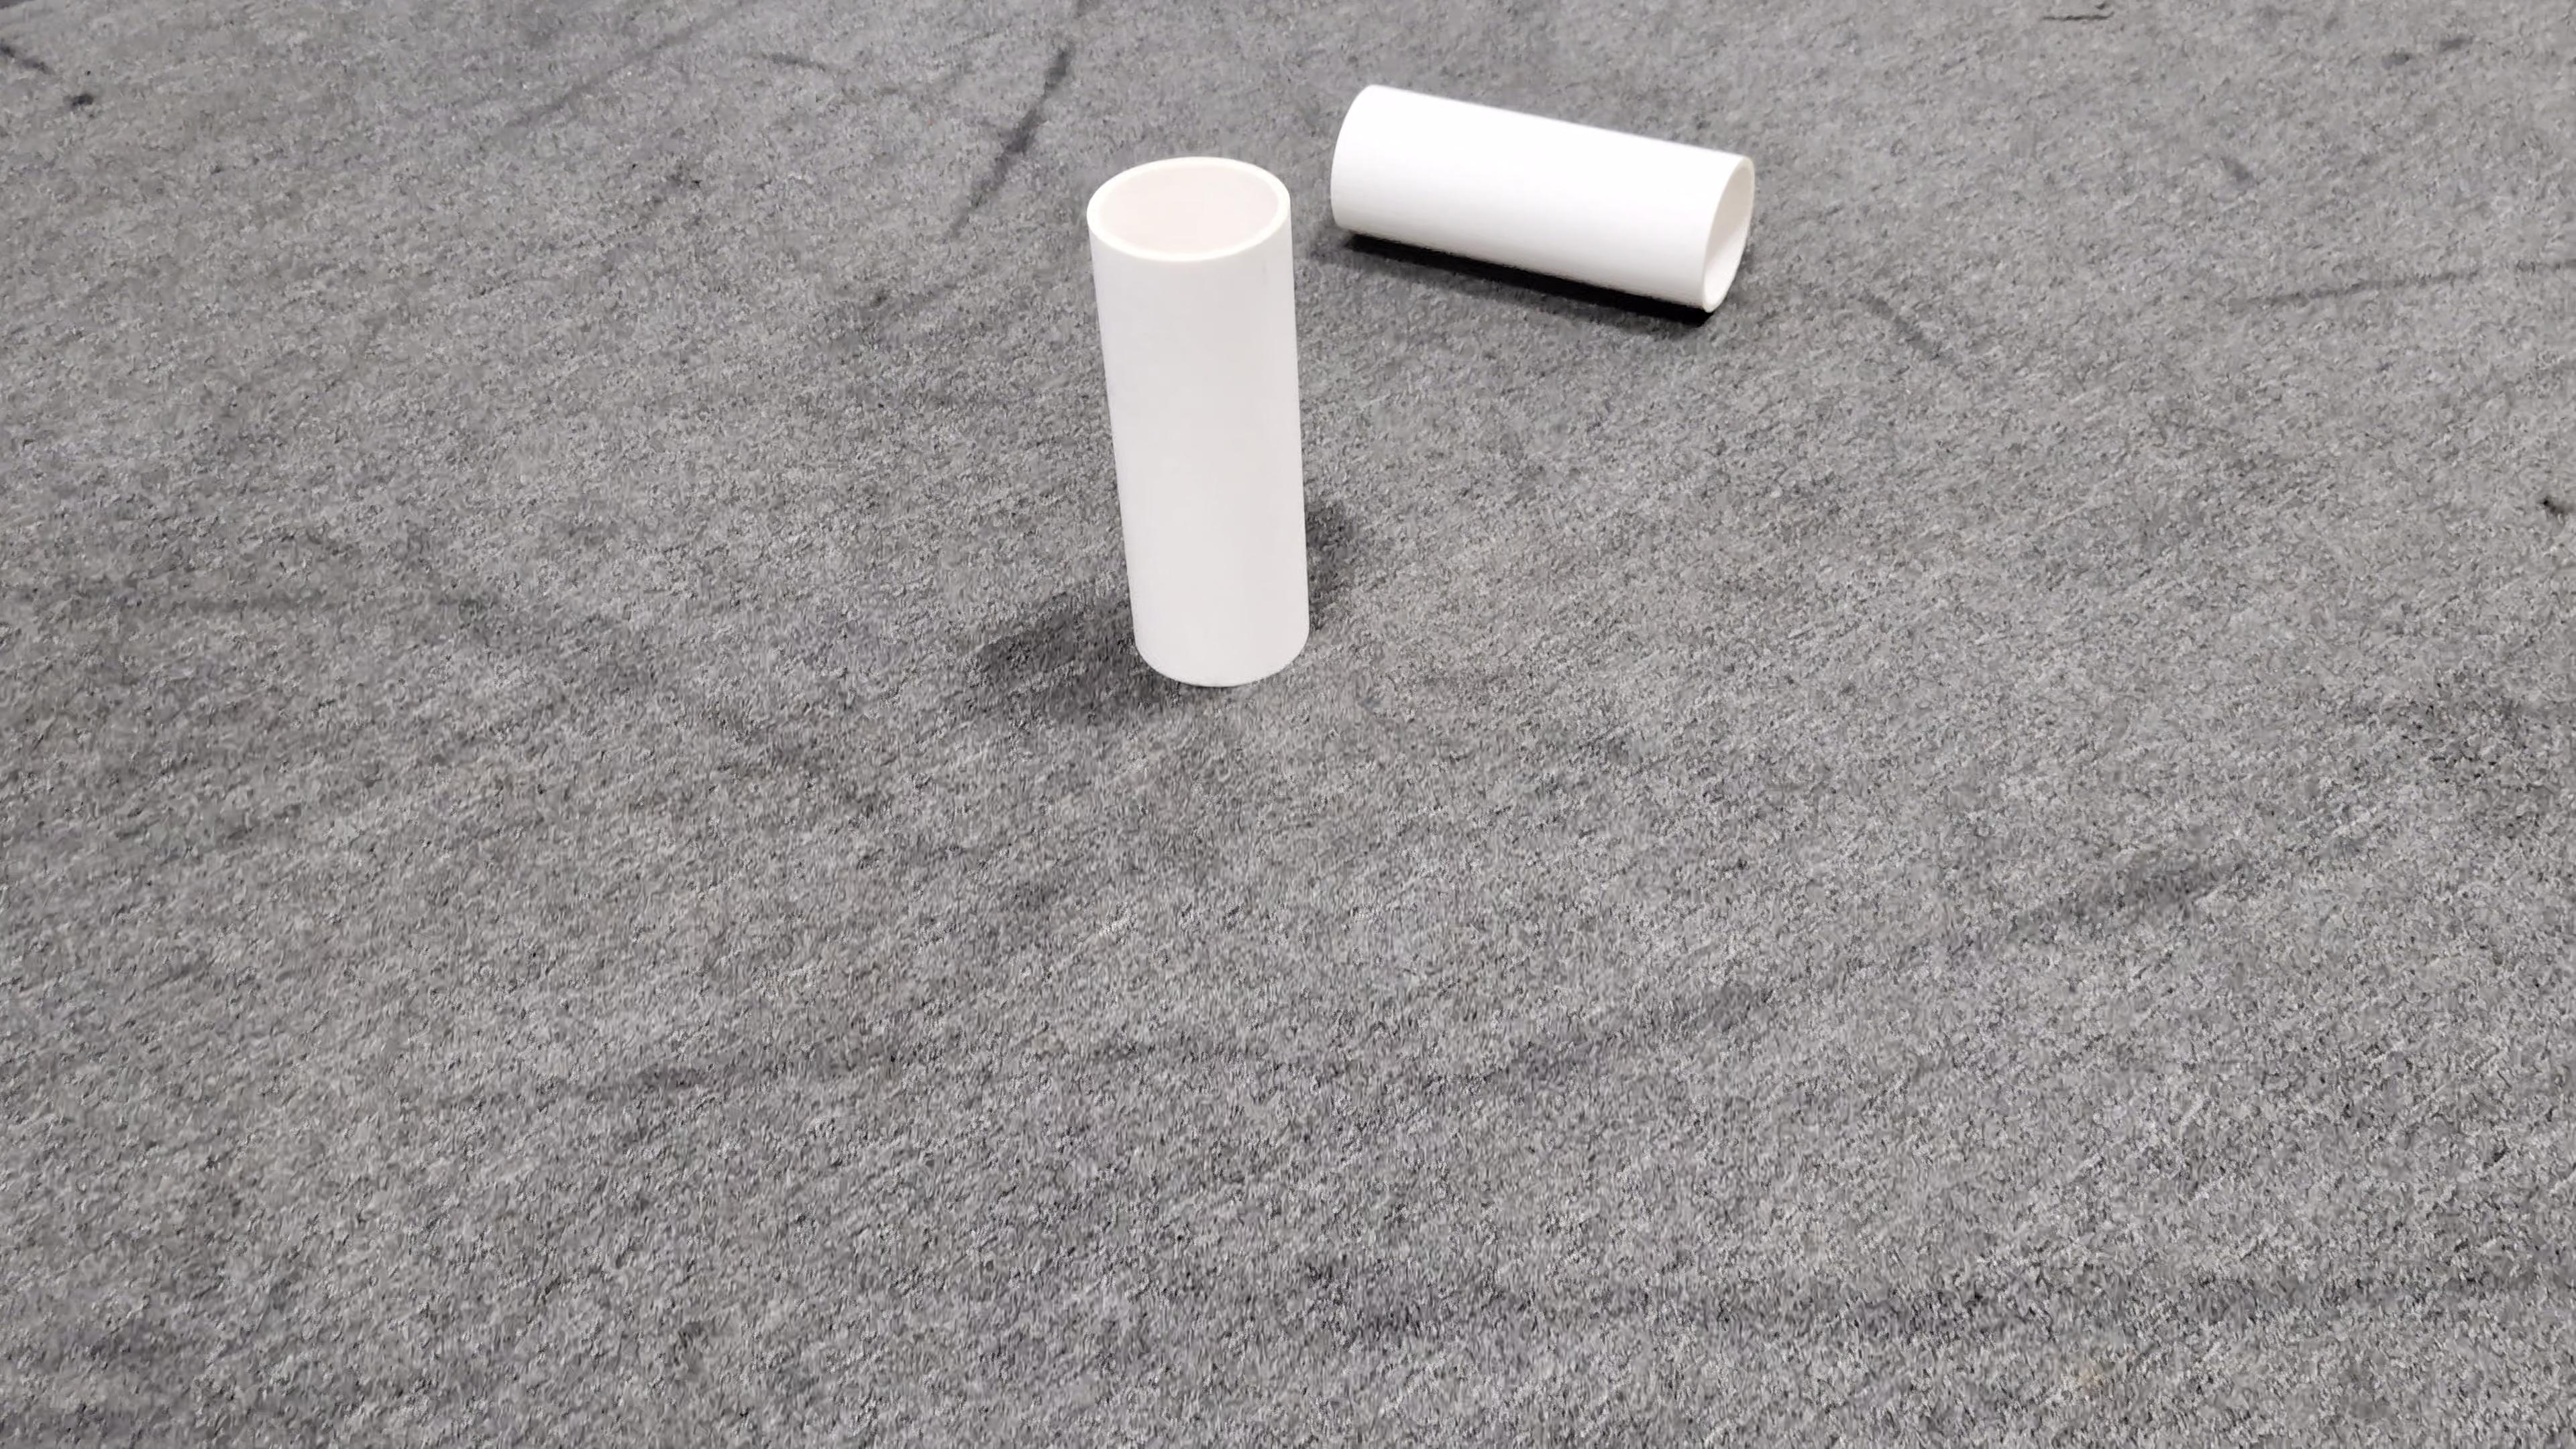coral: (1086, 157, 1311, 685), (1332, 85, 1755, 315)
